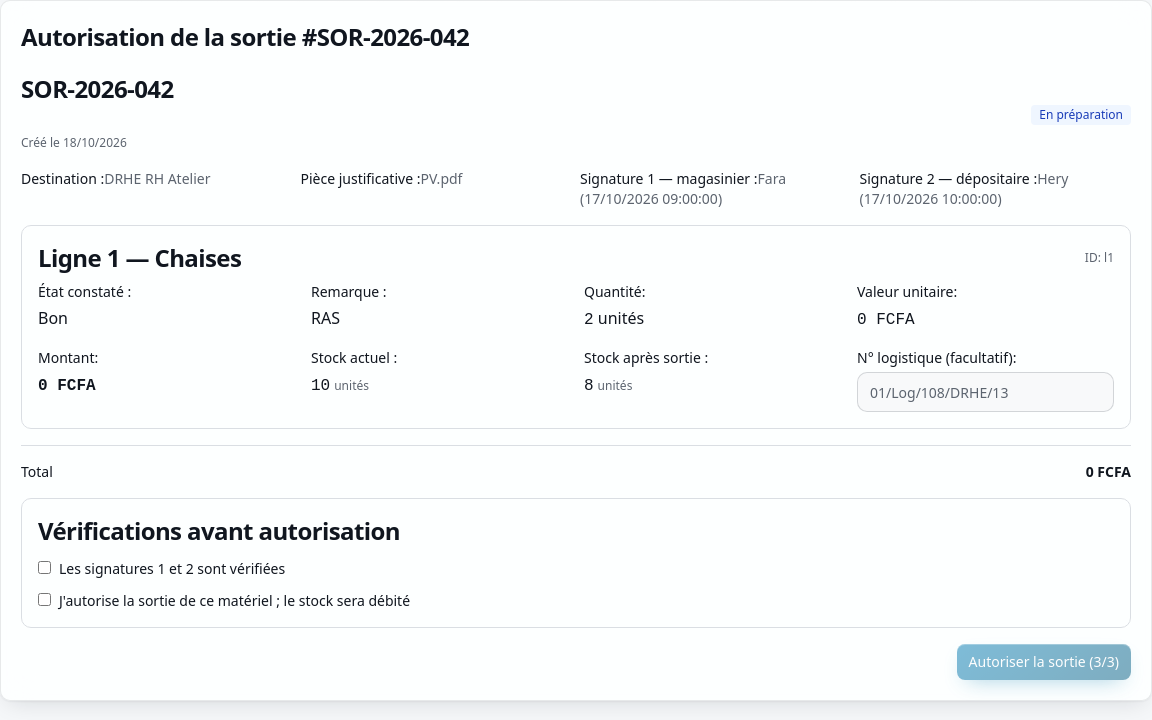
Test: Signature 3 — succès › R1 : écran validé (serveur), stock avant → après, événement, rechargement
Click the checkbox labelled "Les signatures 1 et 2 sont vérifiées": point(44, 568) [38,561,51,574]
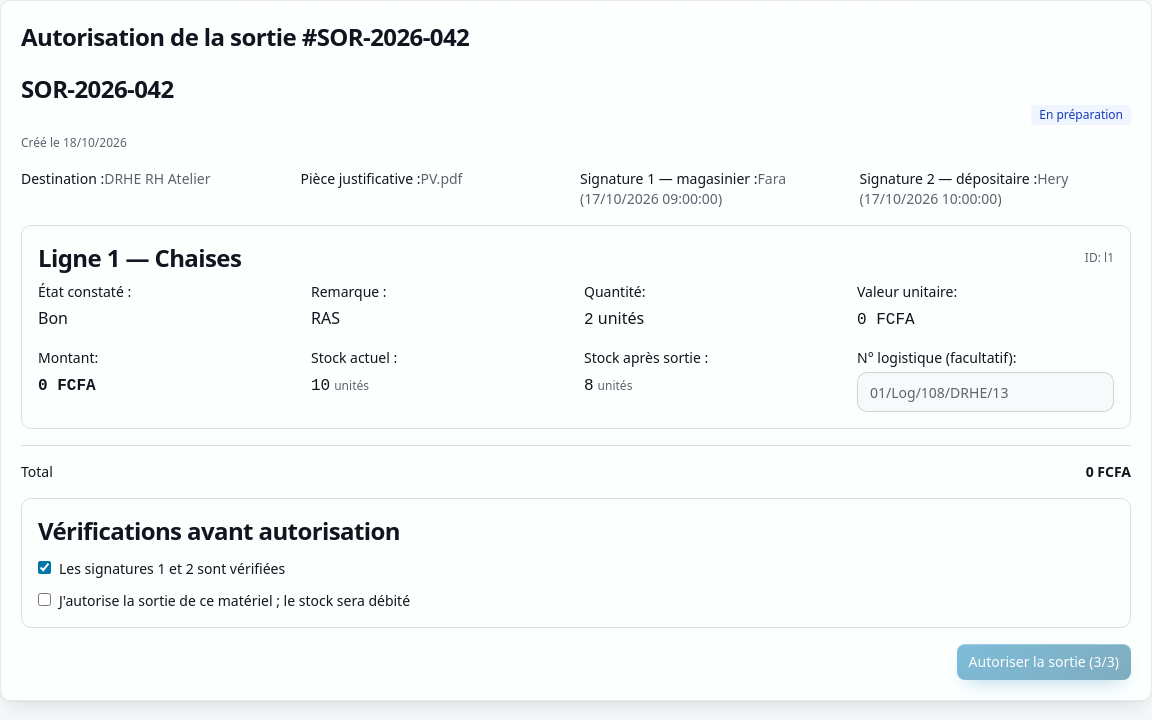
Click the checkbox labelled "J'autorise la sortie de ce matériel ; le stock sera débité": point(44, 600) [38,593,51,606]
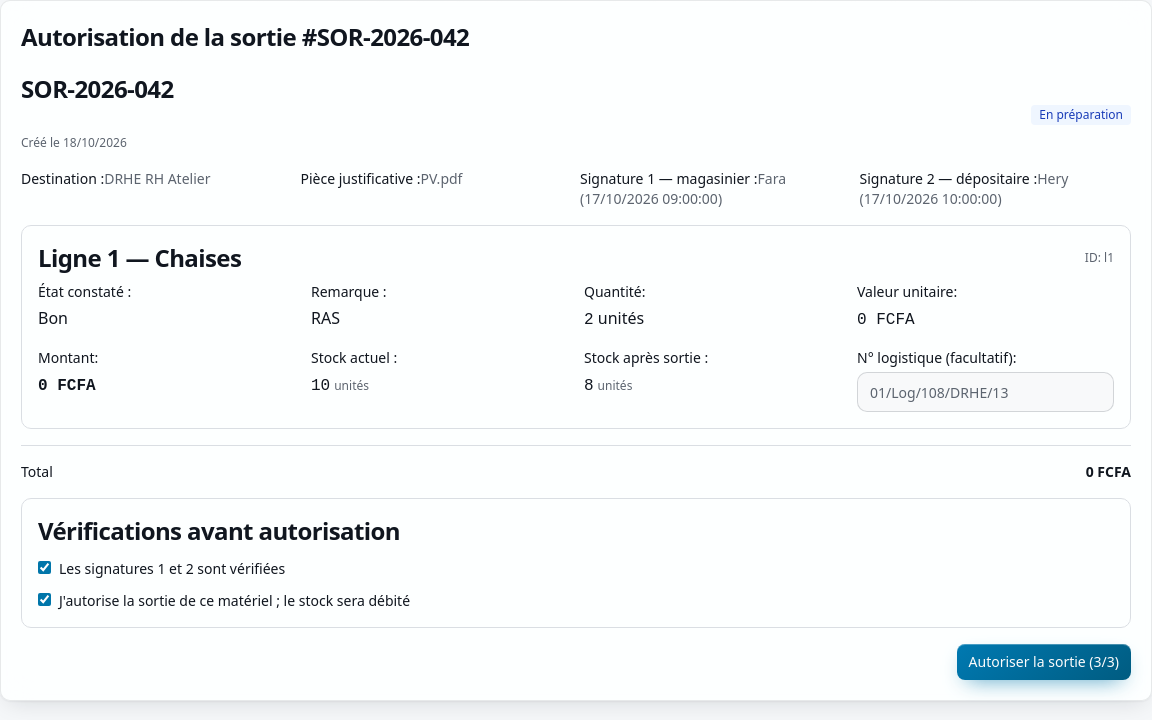
In the field with placeholder "01/Log/108/DRHE/13": point(986, 392) [857,372,1114,412], type "01/Log/108"
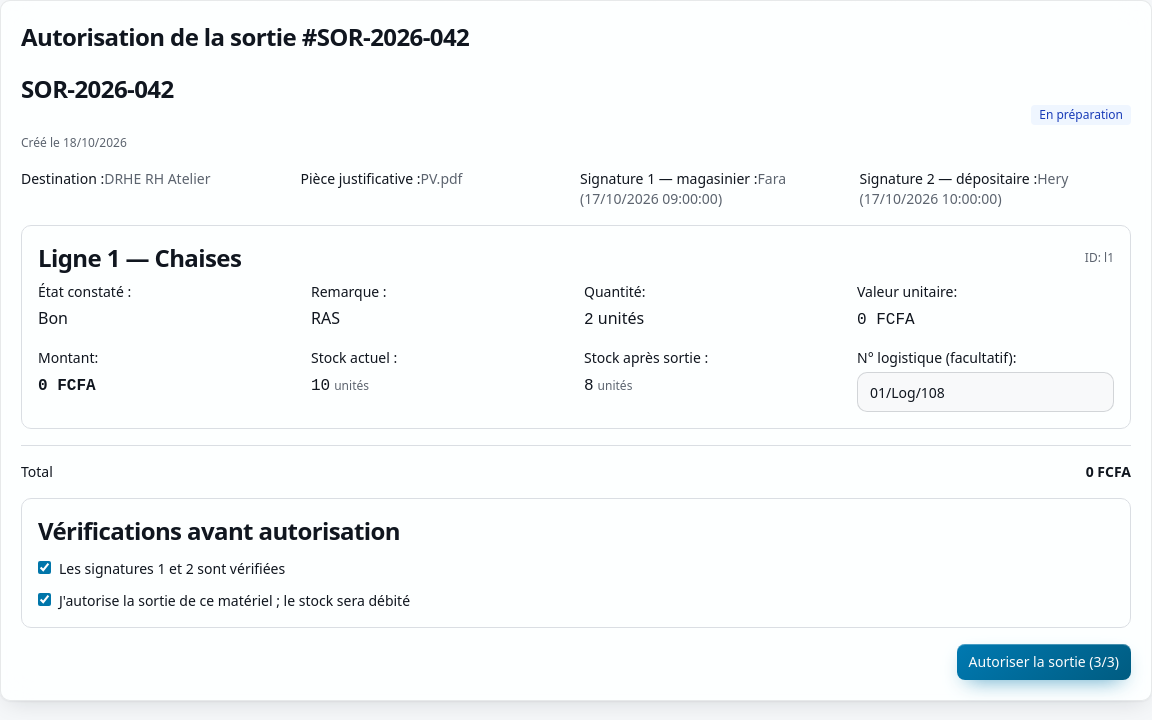
Click the button "Autoriser la sortie (3/3)": point(1044, 662) [957,644,1131,680]
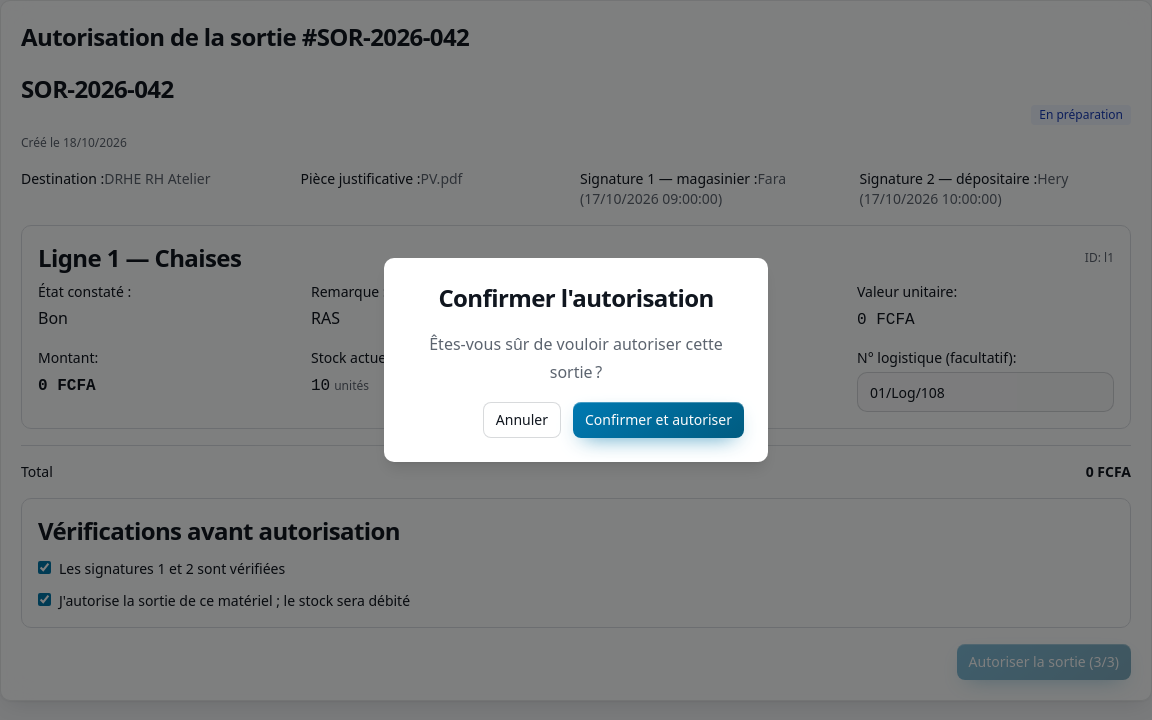
Click the button "Confirmer et autoriser": point(658, 420) [573,402,744,438]
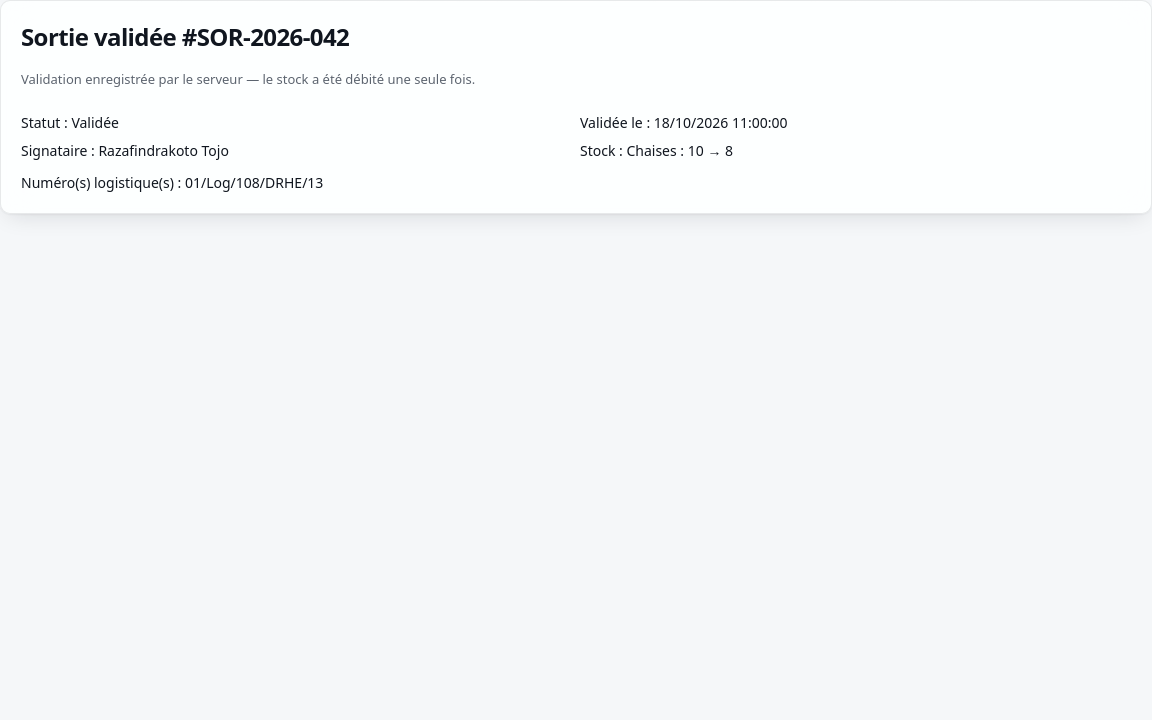
Result: the heading "Sortie validée #SOR-2026-042" is shown at [21,20,349,53]
Result: the text "Validée" is shown at [71,113,119,132]
Result: the text "Razafindrakoto Tojo" is shown at [98,141,229,160]
